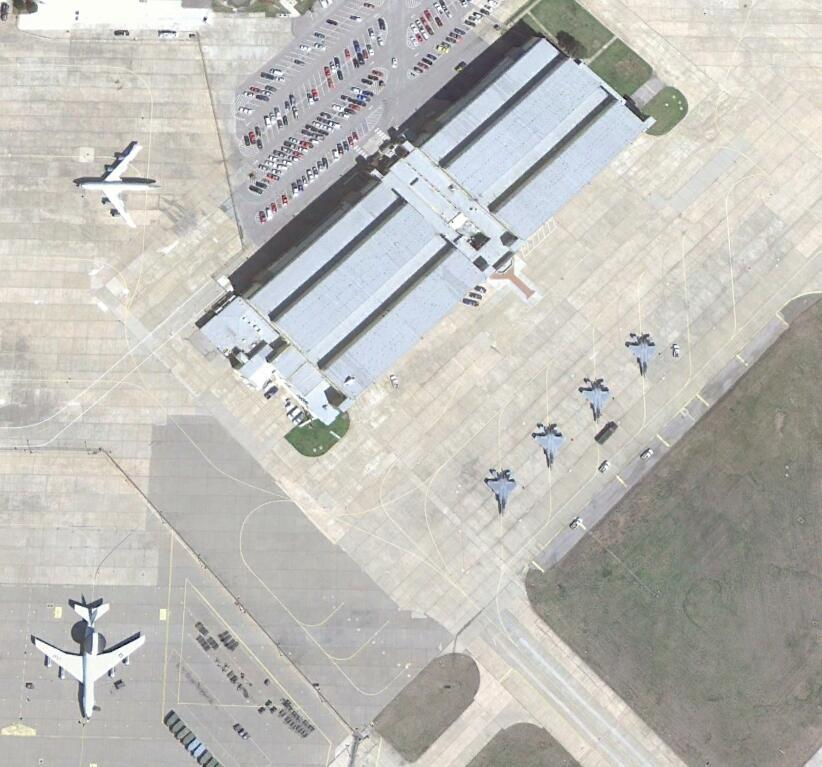A13: (577, 377, 613, 423), (624, 332, 659, 378), (484, 467, 518, 514), (530, 421, 566, 465)
A7: (33, 599, 144, 720)
